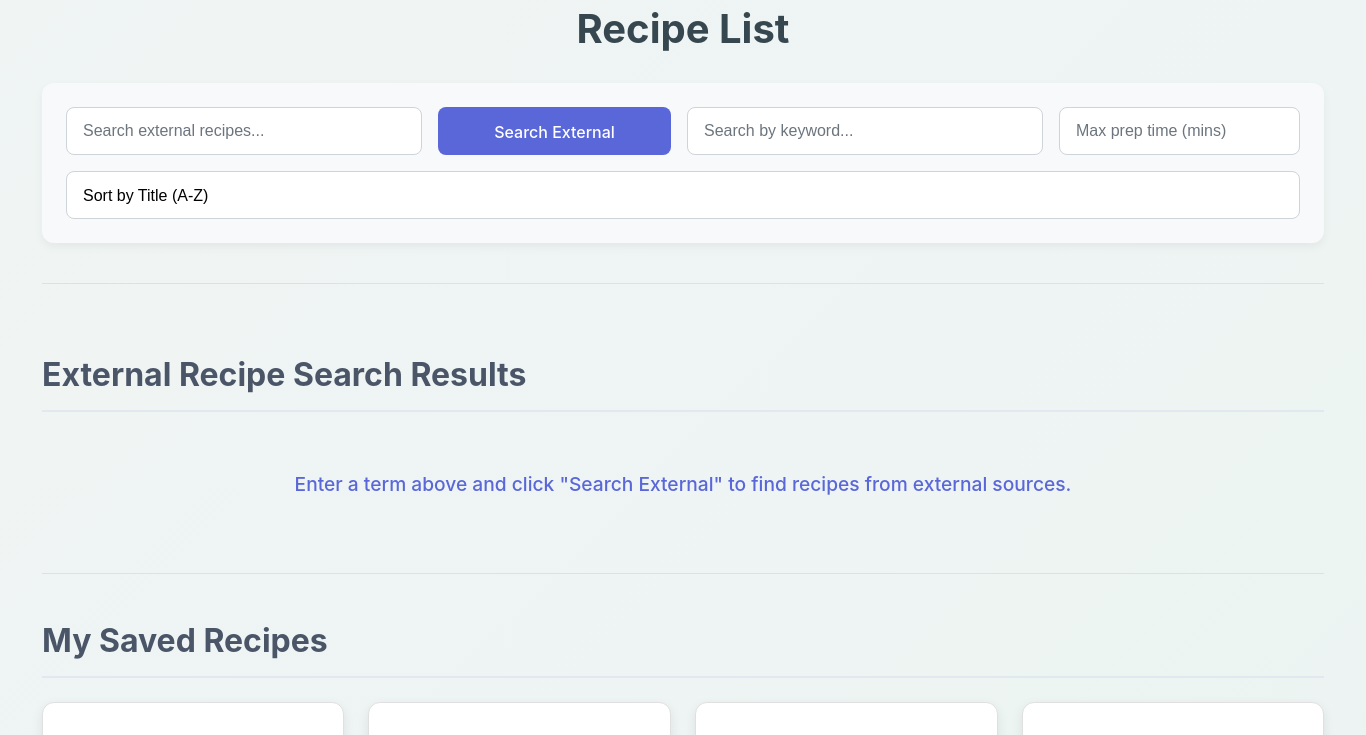
it: RecipeList Component - Search and Filtering › filters by keyword in description
This screenshot has width=1366, height=735.
Type "healthy veggie" into the field with placeholder "Search by keyword..." at (865, 131), box [687,107,1043,155]
(page scrolled)
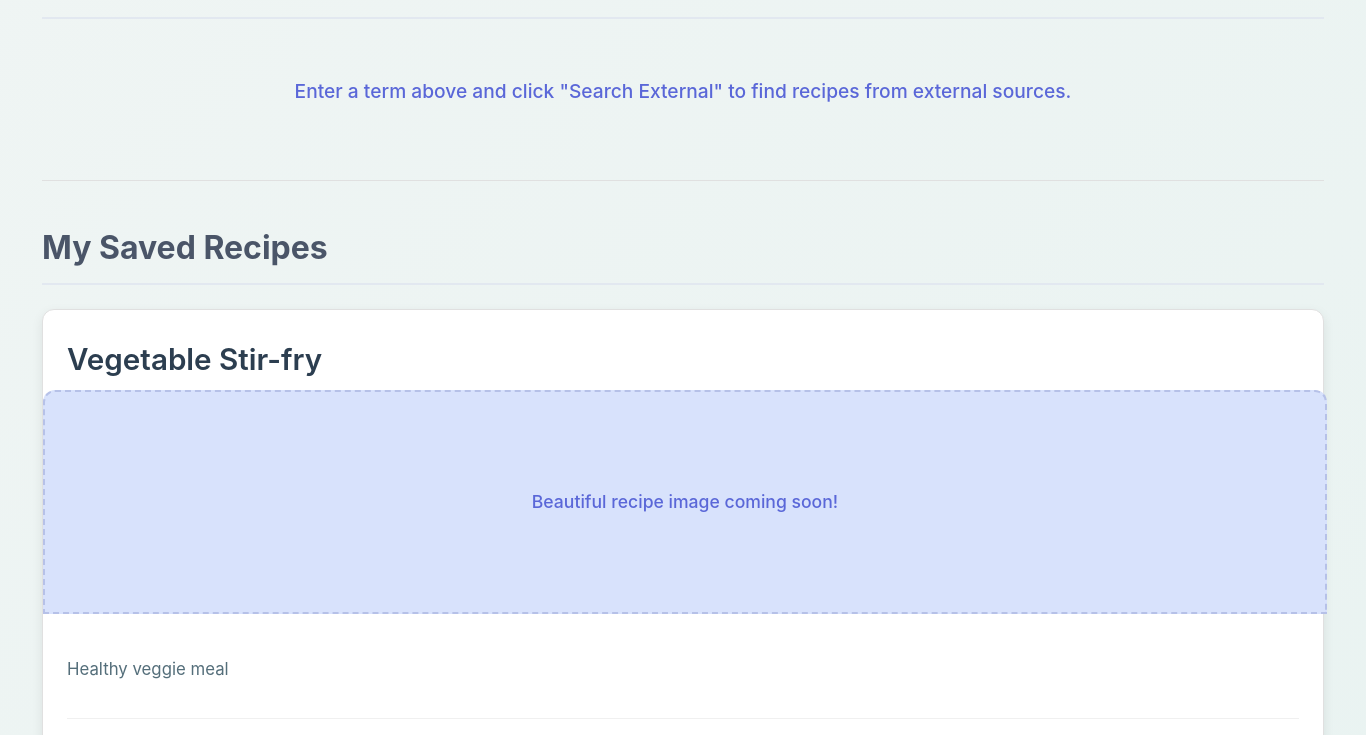
Expected: the heading "Vegetable Stir-fry" is shown, [67,334,1299,394]
